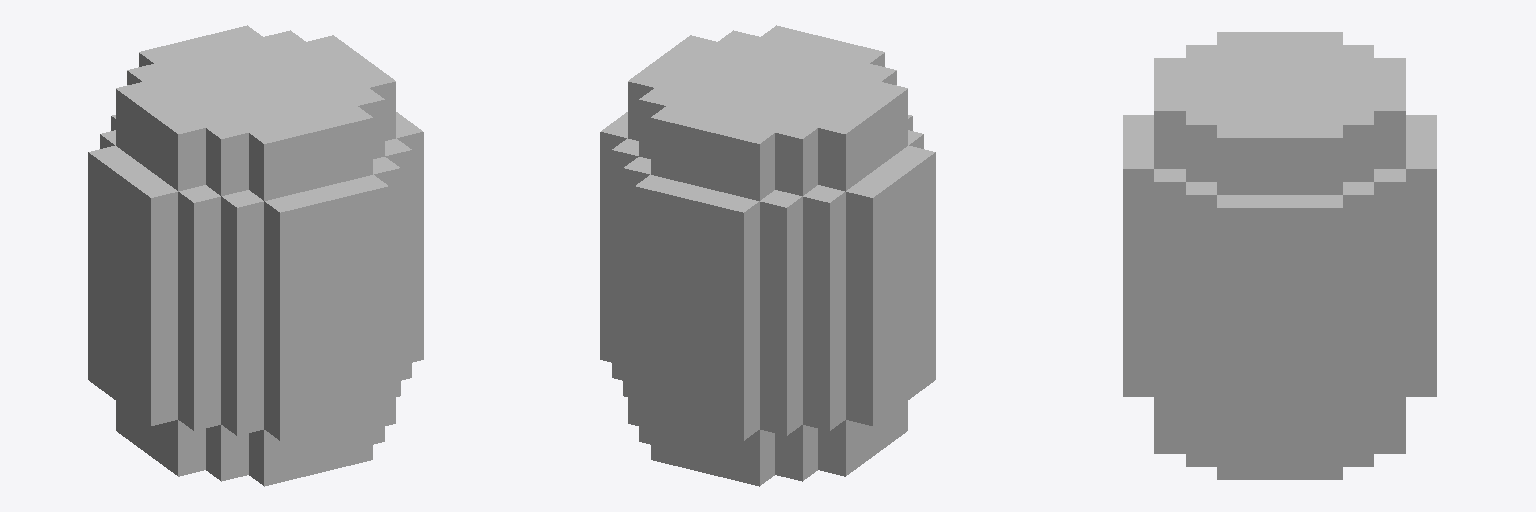
File: Barrel.obj
The picture shows the model from 3 angles: view 1: azimuth 30°, elevation 25°; view 2: azimuth 150°, elevation 25°; view 3: azimuth 270°, elevation 25°; orthographic projection.
Parts seen in each view (by area): view 1: object 1; view 2: object 1; view 3: object 1.
Part boxes in pixels (x1,y1,x2,y2): object 1: (88, 25, 423, 486); object 1: (600, 25, 935, 486); object 1: (1123, 32, 1436, 479).
Size of the model in its own units: 1 by 1.2 by 1.